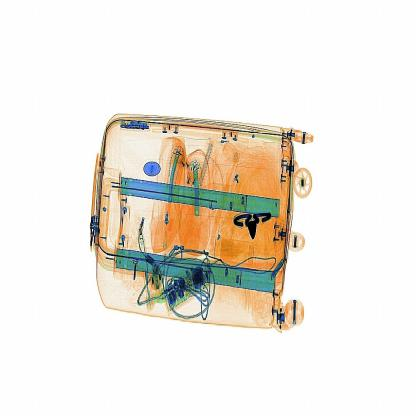gun: (224, 203, 277, 245)
